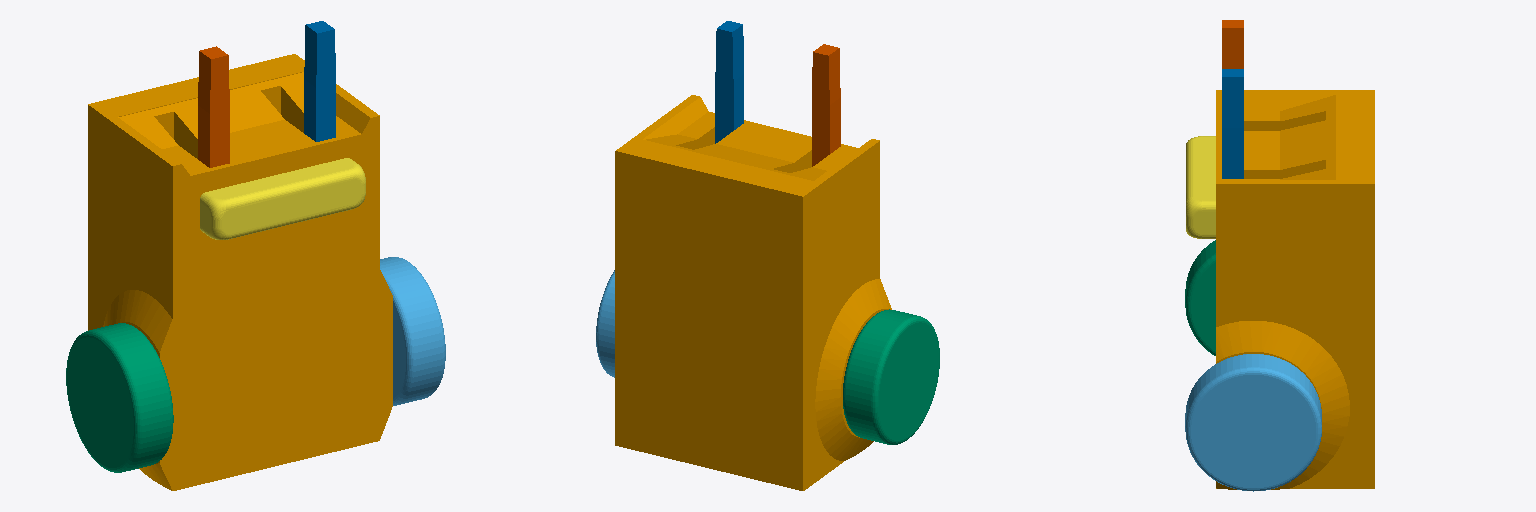
robot.urdf — forkbug:
<?xml version="1.0" ?>
<robot name="forkbug">

<material name="silver">
  <color rgba="0.700 0.700 0.700 1.000"/>
</material>

<material name="blue">
  <color rgba="0.0 0.0 0.80 1.000"/>
</material>

<material name="black">
  <color rgba="0.05 0.05 0.05 1.000"/>
</material>

<link name="base_link">
  <inertial>
    <origin xyz="0.0 0.03914375028163698 -0.002951658930475545" rpy="0 0 0"/>
    <mass value="4.288473150032987"/>
    <inertia ixx="0.00594449124934697" iyy="0.007311036343050522" izz="0.0036627175340656886" ixy="0.0" iyz="-0.00011778987562060237" ixz="-1.4279066817834971e-18"/>
  </inertial>
  <visual>
    <origin xyz="0 0 0" rpy="0 0 0"/>
    <geometry>
      <mesh filename="meshes/base_link.stl" scale="0.001 0.001 0.001"/>
    </geometry>
    <material name="blue"/>
    <material/>
  </visual>
  <collision>
    <origin xyz="0 0 0" rpy="0 0 0"/>
    <geometry>
      <mesh filename="meshes/base_link.stl" scale="0.001 0.001 0.001"/>
    </geometry>
  </collision>
</link>

<link name="right_wheel1">
  <inertial>
    <origin xyz="0.0075 -4.5426319034494456e-07 -4.4560285050038173e-07" rpy="0 0 0"/>
    <mass value="0.21780549353036396"/>
    <inertia ixx="6.415782787719233e-05" iyy="3.60997630002043e-05" izz="3.609976300020506e-05" ixy="-5.421010862427522e-20" iyz="4.607859233063394e-19" ixz="-5.421010862427522e-20"/>
  </inertial>
  <visual>
    <origin xyz="-0.045 -0.024378 0.028016" rpy="0 0 0"/>
    <geometry>
      <mesh filename="meshes/right_wheel1.stl" scale="0.001 0.001 0.001"/>
    </geometry>
    <material name="black"/>
    <material/>
  </visual>
  <collision>
    <origin xyz="-0.045 -0.024378 0.028016" rpy="0 0 0"/>
    <geometry>
      <mesh filename="meshes/right_wheel1.stl" scale="0.001 0.001 0.001"/>
    </geometry>
  </collision>
</link>

<link name="left_wheel1">
  <inertial>
    <origin xyz="-0.0075 -4.5426319035188345e-07 -4.456028504899734e-07" rpy="0 0 0"/>
    <mass value="0.21780549353036396"/>
    <inertia ixx="6.415782787719238e-05" iyy="3.60997630002043e-05" izz="3.609976300020506e-05" ixy="5.421010862427522e-20" iyz="3.2526065174565133e-19" ixz="0.0"/>
  </inertial>
  <visual>
    <origin xyz="0.045 -0.024378 0.028016" rpy="0 0 0"/>
    <geometry>
      <mesh filename="meshes/left_wheel1.stl" scale="0.001 0.001 0.001"/>
    </geometry>
    <material name="black"/>
    <material/>
  </visual>
  <collision>
    <origin xyz="0.045 -0.024378 0.028016" rpy="0 0 0"/>
    <geometry>
      <mesh filename="meshes/left_wheel1.stl" scale="0.001 0.001 0.001"/>
    </geometry>
  </collision>
</link>

<link name="roller1">
  <inertial>
    <origin xyz="-1.0976815890497881e-07 -0.005219370386680325 0.04000005692506423" rpy="0 0 0"/>
    <mass value="0.07106955168482779"/>
    <inertia ixx="1.893245455488634e-06" iyy="2.1399009148159392e-05" izz="2.081143921714293e-05" ixy="-2.3678730929984176e-12" iyz="1.2279638162424403e-12" ixz="-2.6986940702341474e-11"/>
  </inertial>
  <visual>
    <origin xyz="-0.0 -0.010831 -0.0" rpy="0 0 0"/>
    <geometry>
      <mesh filename="meshes/roller1.stl" scale="0.001 0.001 0.001"/>
    </geometry>
    <material name="black"/>
    <material/>
  </visual>
  <collision>
    <origin xyz="-0.0 -0.010831 -0.0" rpy="0 0 0"/>
    <geometry>
      <mesh filename="meshes/roller1.stl" scale="0.001 0.001 0.001"/>
    </geometry>
  </collision>
</link>

<link name="right_teeth1">
  <inertial>
    <origin xyz="-3.862213383519497e-07 0.004000478393261448 0.02451321833976925" rpy="0 0 0"/>
    <mass value="0.023653717758888238"/>
    <inertia ixx="4.954206968200547e-06" iyy="4.94045189590621e-06" izz="2.3855125046717224e-07" ixy="0.0" iyz="-6.776263578034403e-21" ixz="-1.3552527156068805e-20"/>
  </inertial>
  <visual>
    <origin xyz="-0.020491 -0.01297 -0.044692" rpy="0 0 0"/>
    <geometry>
      <mesh filename="meshes/right_teeth1.stl" scale="0.001 0.001 0.001"/>
    </geometry>
    <material name="silver"/>
    <material/>
  </visual>
  <collision>
    <origin xyz="-0.020491 -0.01297 -0.044692" rpy="0 0 0"/>
    <geometry>
      <mesh filename="meshes/right_teeth1.stl" scale="0.001 0.001 0.001"/>
    </geometry>
  </collision>
</link>

<link name="left_teeth1">
  <inertial>
    <origin xyz="3.862213383658275e-07 0.00400047839326143 0.02451321833976918" rpy="0 0 0"/>
    <mass value="0.023653717758888238"/>
    <inertia ixx="4.954206968200953e-06" iyy="4.9404518959065625e-06" izz="2.3855125046717224e-07" ixy="-1.5924219408380846e-19" iyz="-5.759824041329242e-20" ixz="-2.0328790734103208e-20"/>
  </inertial>
  <visual>
    <origin xyz="0.020491 -0.01297 -0.044692" rpy="0 0 0"/>
    <geometry>
      <mesh filename="meshes/left_teeth1.stl" scale="0.001 0.001 0.001"/>
    </geometry>
    <material name="silver"/>
    <material/>
  </visual>
  <collision>
    <origin xyz="0.020491 -0.01297 -0.044692" rpy="0 0 0"/>
    <geometry>
      <mesh filename="meshes/left_teeth1.stl" scale="0.001 0.001 0.001"/>
    </geometry>
  </collision>
</link>

<joint name="Revolute_1" type="continuous">
  <origin xyz="0.045 0.024378 -0.028016" rpy="0 0 0"/>
  <parent link="base_link"/>
  <child link="right_wheel1"/>
  <axis xyz="1.0 0.0 0.0"/>
</joint>
<transmission name="Revolute_1_tran">
  <type>transmission_interface/SimpleTransmission</type>
  <joint name="Revolute_1">
    <hardwareInterface>PositionJointInterface</hardwareInterface>
  </joint>
  <actuator name="Revolute_1_actr">
    <hardwareInterface>PositionJointInterface</hardwareInterface>
    <mechanicalReduction>1</mechanicalReduction>
  </actuator>
</transmission>

<joint name="Revolute_2" type="continuous">
  <origin xyz="-0.045 0.024378 -0.028016" rpy="0 0 0"/>
  <parent link="base_link"/>
  <child link="left_wheel1"/>
  <axis xyz="1.0 0.0 0.0"/>
</joint>
<transmission name="Revolute_2_tran">
  <type>transmission_interface/SimpleTransmission</type>
  <joint name="Revolute_2">
    <hardwareInterface>PositionJointInterface</hardwareInterface>
  </joint>
  <actuator name="Revolute_2_actr">
    <hardwareInterface>PositionJointInterface</hardwareInterface>
    <mechanicalReduction>1</mechanicalReduction>
  </actuator>
</transmission>

<joint name="Rigid_3" type="fixed">
  <origin xyz="0.0 0.010831 0.0" rpy="0 0 0"/>
  <parent link="base_link"/>
  <child link="roller1"/>
</joint>

<joint name="Revolute_4" type="revolute">
  <origin xyz="0.020491 0.01297 0.044692" rpy="0 0 0"/>
  <parent link="base_link"/>
  <child link="right_teeth1"/>
  <axis xyz="-1.0 0.0 0.0"/>
  <limit upper="1.003564" lower="0.0" effort="100" velocity="100"/>
</joint>
<transmission name="Revolute_4_tran">
  <type>transmission_interface/SimpleTransmission</type>
  <joint name="Revolute_4">
    <hardwareInterface>PositionJointInterface</hardwareInterface>
  </joint>
  <actuator name="Revolute_4_actr">
    <hardwareInterface>PositionJointInterface</hardwareInterface>
    <mechanicalReduction>1</mechanicalReduction>
  </actuator>
</transmission>

<joint name="Revolute_5" type="revolute">
  <origin xyz="-0.020491 0.01297 0.044692" rpy="0 0 0"/>
  <parent link="base_link"/>
  <child link="left_teeth1"/>
  <axis xyz="1.0 0.0 0.0"/>
  <limit upper="0.0" lower="-1.003564" effort="100" velocity="100"/>
</joint>
<transmission name="Revolute_5_tran">
  <type>transmission_interface/SimpleTransmission</type>
  <joint name="Revolute_5">
    <hardwareInterface>PositionJointInterface</hardwareInterface>
  </joint>
  <actuator name="Revolute_5_actr">
    <hardwareInterface>PositionJointInterface</hardwareInterface>
    <mechanicalReduction>1</mechanicalReduction>
  </actuator>
</transmission>

</robot>

--- Render facts (derived) ---
Views: 3 orthographic renders of the robot side by side, from view 1: azimuth 30°, elevation 25°; view 2: azimuth 150°, elevation 25°; view 3: azimuth 270°, elevation 25°.
Model forkbug with 6 links and 5 joints (2 revolute, 2 continuous, 1 fixed), rooted at base_link, posed every joint at zero.
Visible links, largest first — view 1: base_link, left_wheel1, roller1, right_wheel1, left_teeth1, right_teeth1; view 2: base_link, left_wheel1, right_teeth1, left_teeth1, right_wheel1; view 3: base_link, right_wheel1, roller1, left_wheel1, right_teeth1, left_teeth1.
Boxes of the visible links, bbox=[...] form: base_link: bbox=[88, 54, 392, 490]; left_wheel1: bbox=[66, 323, 173, 472]; roller1: bbox=[200, 158, 365, 239]; right_wheel1: bbox=[380, 257, 445, 405]; left_teeth1: bbox=[198, 46, 229, 167]; right_teeth1: bbox=[304, 21, 335, 141]; base_link: bbox=[615, 95, 891, 490]; left_wheel1: bbox=[843, 309, 939, 444]; right_teeth1: bbox=[715, 21, 743, 143]; left_teeth1: bbox=[812, 44, 840, 166]; right_wheel1: bbox=[596, 270, 614, 377]; base_link: bbox=[1216, 90, 1374, 489]; right_wheel1: bbox=[1185, 354, 1321, 491]; roller1: bbox=[1186, 136, 1215, 238]; left_wheel1: bbox=[1185, 240, 1215, 355]; right_teeth1: bbox=[1222, 69, 1243, 178]; left_teeth1: bbox=[1222, 20, 1243, 68].
Size in the robot's own frame: 0.12 by 0.0675 by 0.1546 metres.
Meshes: 6 distinct files referenced, 6 mesh visuals loaded (6 binary STL).